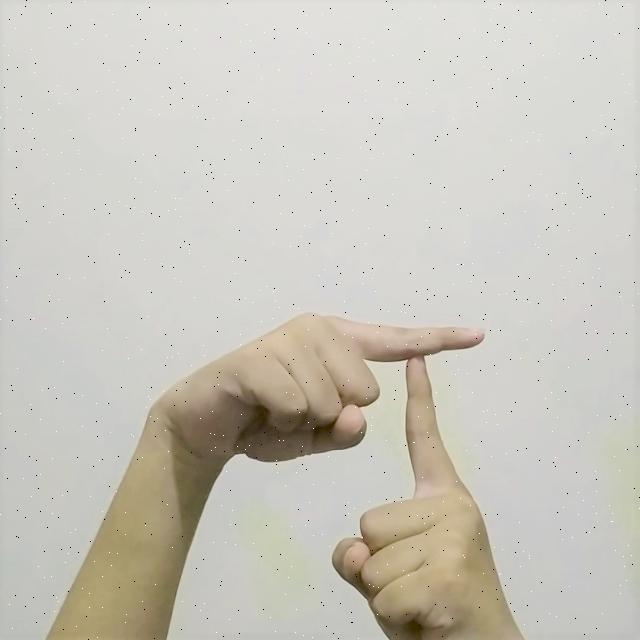T: (128, 278, 540, 632)
